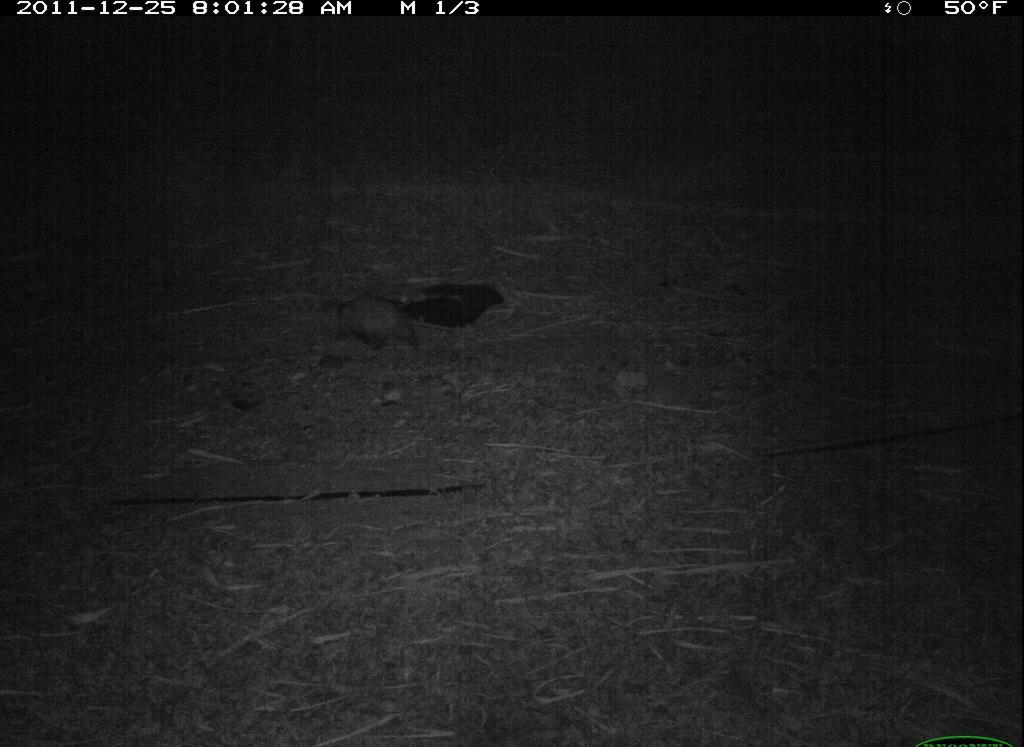opossum: (313, 285, 436, 363)
